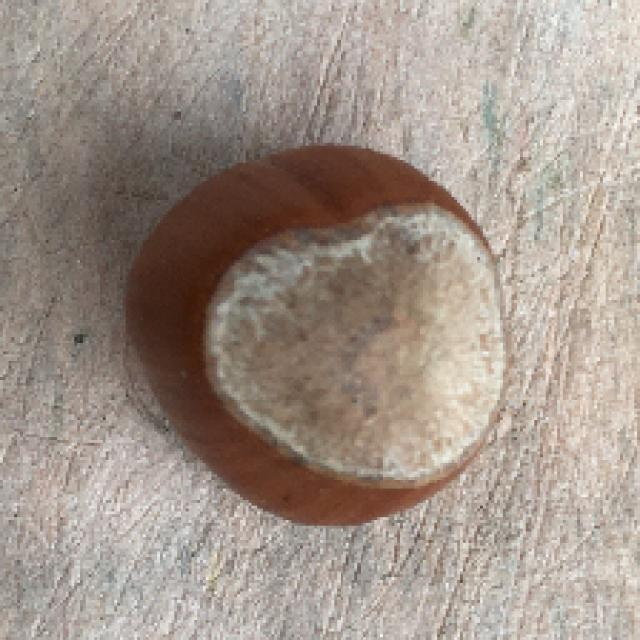qualityHazelnut: (124, 143, 510, 531)
